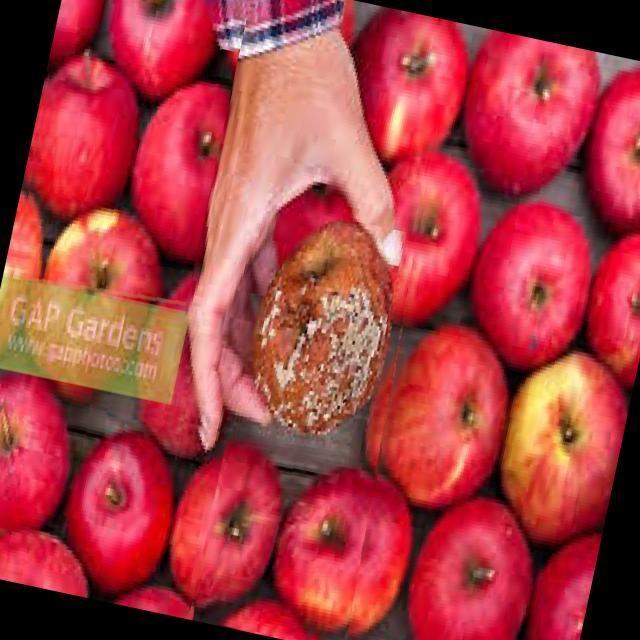Organic: (321, 34, 640, 640), (2, 0, 254, 314), (0, 369, 230, 619), (232, 206, 406, 468), (192, 443, 359, 640)
